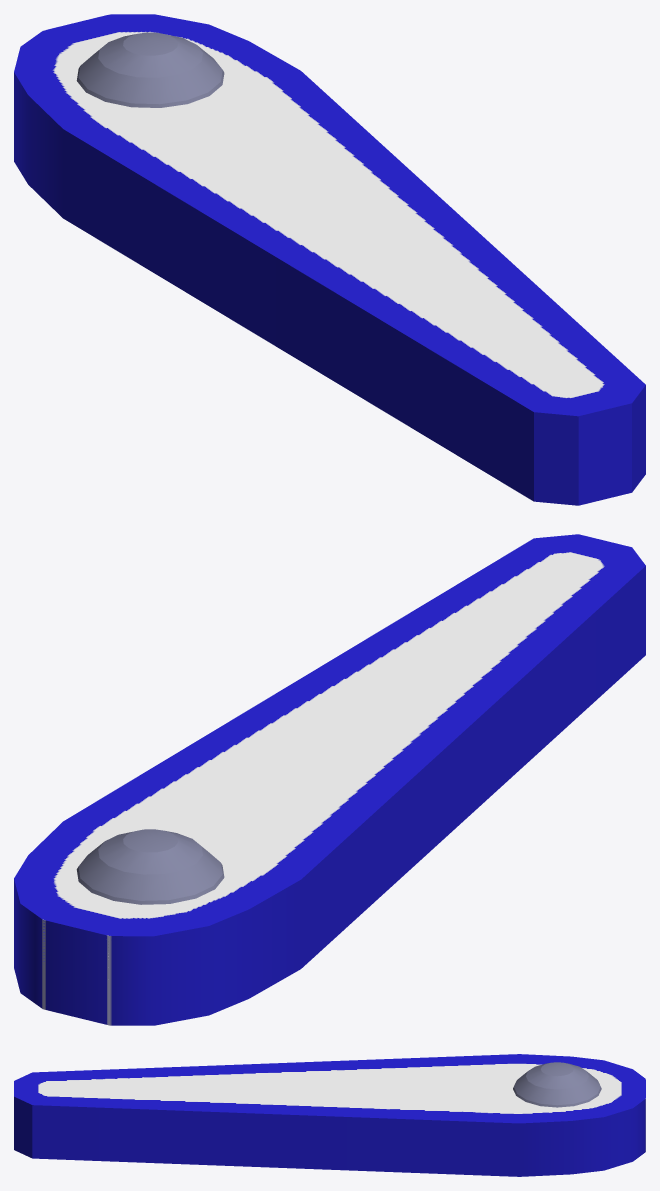
File: Flipper.obj
3 views of the same model, one above another, from view 1: azimuth 30°, elevation 25°; view 2: azimuth 150°, elevation 25°; view 3: azimuth 270°, elevation 25° (orthographic). The views are drawn at different scales.
Parts seen in each view (by area): view 1: Flipper, Pin; view 2: Flipper, Pin; view 3: Flipper, Pin.
Part boxes in pixels (bbox=[...]): Flipper: bbox=[14, 14, 645, 505]; Pin: bbox=[76, 32, 224, 107]; Flipper: bbox=[14, 534, 645, 1025]; Pin: bbox=[76, 829, 224, 947]; Flipper: bbox=[14, 1054, 645, 1176]; Pin: bbox=[513, 1062, 601, 1107].
Bounding box in the file's own units: 0.9585 × 0.4858 × 3.69.
2 materials, 1 textured.
